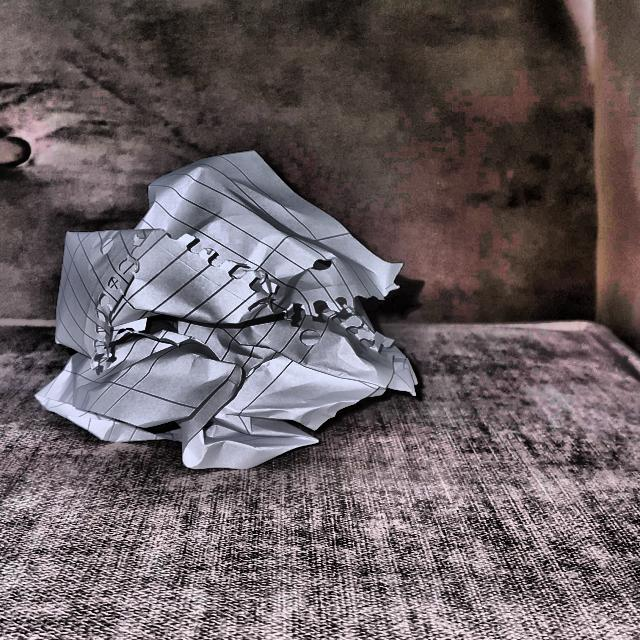paper: (32, 137, 436, 483)
